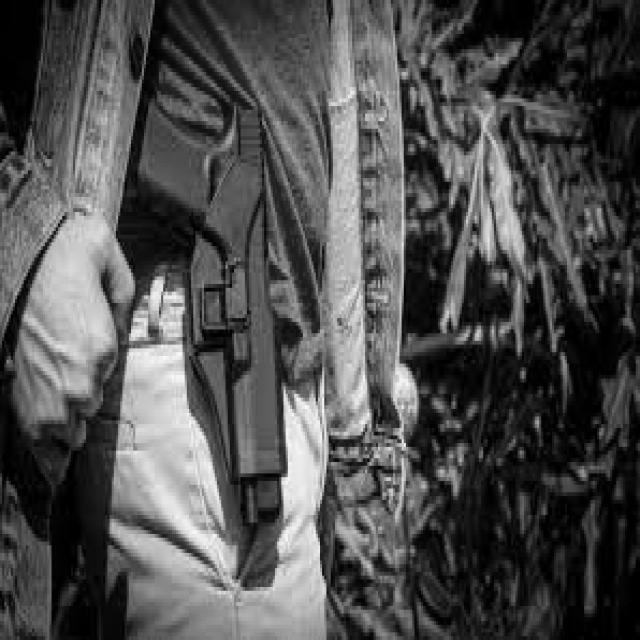handgun: (137, 84, 291, 534)
